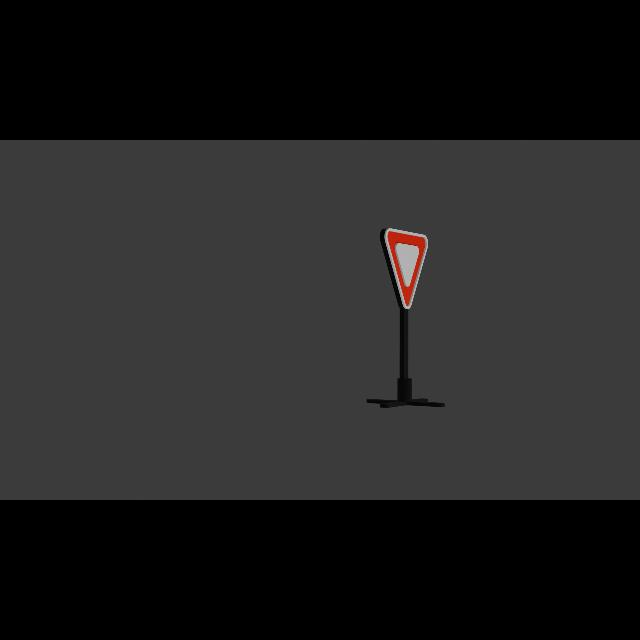sign_yield: (383, 228, 430, 310)
